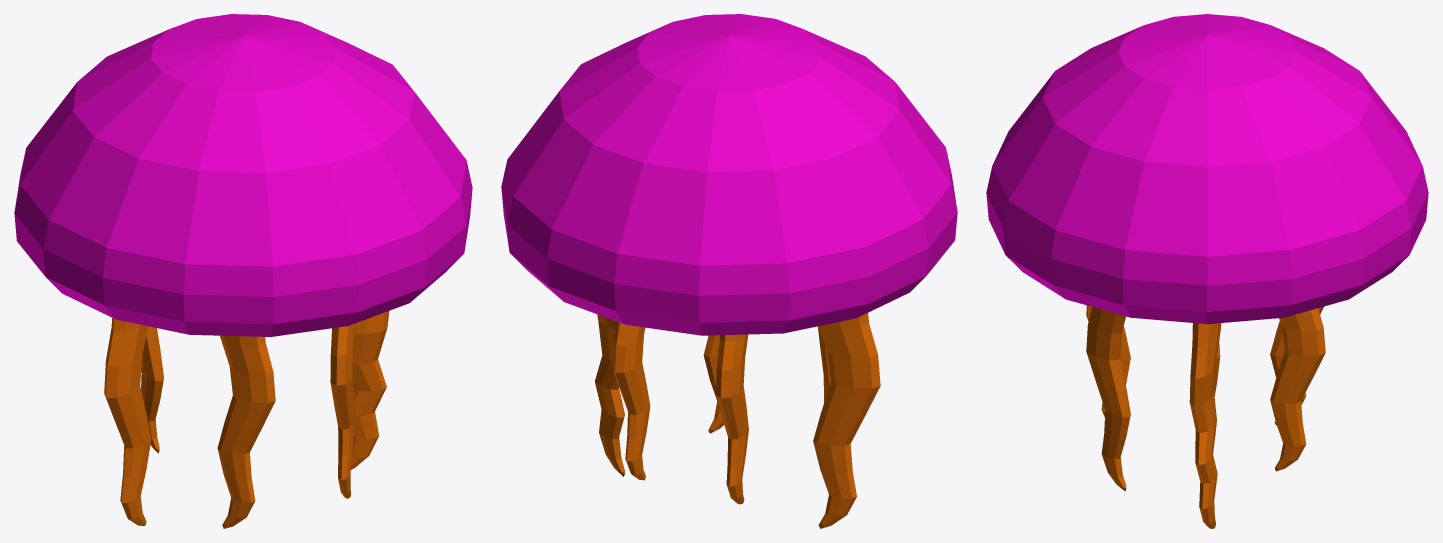
File: Jellyfish.fbx
3 views of the same model, side by side, from view 1: azimuth 30°, elevation 25°; view 2: azimuth 150°, elevation 25°; view 3: azimuth 270°, elevation 25° (orthographic). The views are drawn at different scales.
Parts seen in each view (by area): view 1: Sphere; view 2: Sphere; view 3: Sphere.
Boxes of the visible parts, left/top/right/bottom form: Sphere: left=14, top=14, right=472, bottom=528; Sphere: left=501, top=14, right=957, bottom=528; Sphere: left=986, top=14, right=1428, bottom=528.
Bounding box in the file's own units: 190 × 213 × 190.
